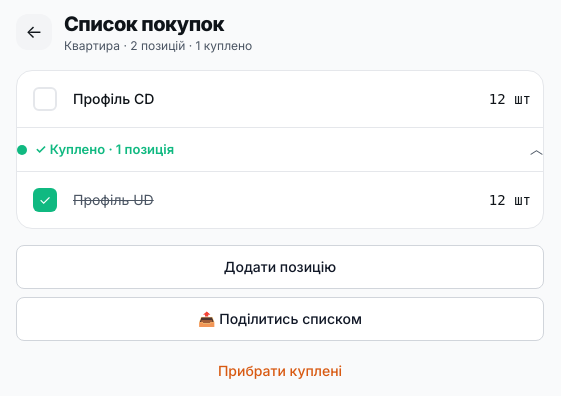
Test case: ShoppingListPage › shows the bought rows without being asked, and folds them on the group row
Expected: the text "Профіль CD" is shown, [73,90,154,107]
Expected: the text "Профіль UD" is shown, [73,191,154,208]
Click the button "✓ Куплено · 1 позиція ︿". click: (105, 149)
box: [17,128,543,172]
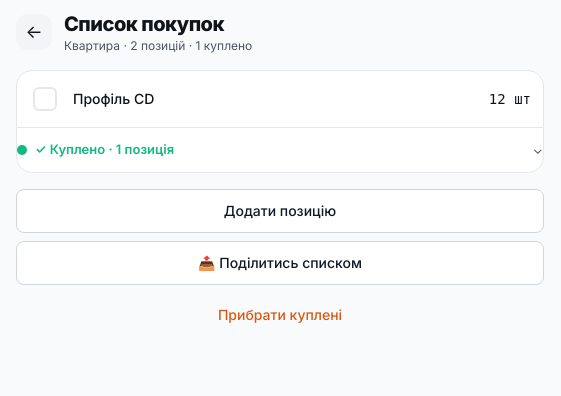
Now the button "Профіль UD" is gone
